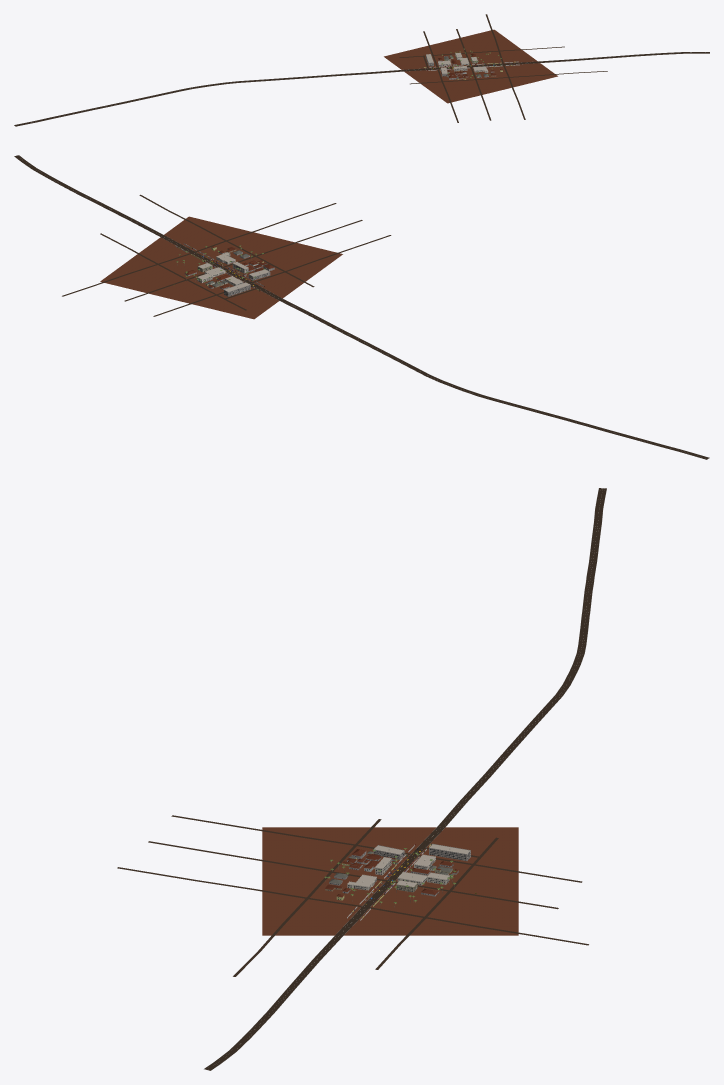
The model's file is sinkor-street.v1.glb.
The picture shows the model from 3 angles, top to bottom: view 1: azimuth 30°, elevation 25°; view 2: azimuth 150°, elevation 25°; view 3: azimuth 270°, elevation 25°; orthographic projection. The views are drawn at different scales.
Parts seen in each view (by area): view 1: ground, road.002, road, kerb; view 2: ground, road.002, road; view 3: ground, road.002, road.
Boxes of the visible parts, left/top/right/bottom form: ground: left=384, top=29, right=557, bottom=103; road.002: left=14, top=52, right=709, bottom=126; road: left=485, top=14, right=525, bottom=119; kerb: left=16, top=52, right=682, bottom=126; ground: left=100, top=216, right=342, bottom=319; road.002: left=14, top=155, right=709, bottom=459; road: left=62, top=203, right=336, bottom=296; ground: left=262, top=827, right=518, bottom=935; road.002: left=204, top=488, right=606, bottom=1070; road: left=117, top=867, right=588, bottom=945.
Bounding box in the file's own units: 2379 × 14.44 × 846.
Materials: 64 (21 with a texture image).
